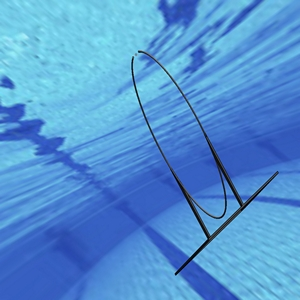circle: (128, 47, 279, 275)
